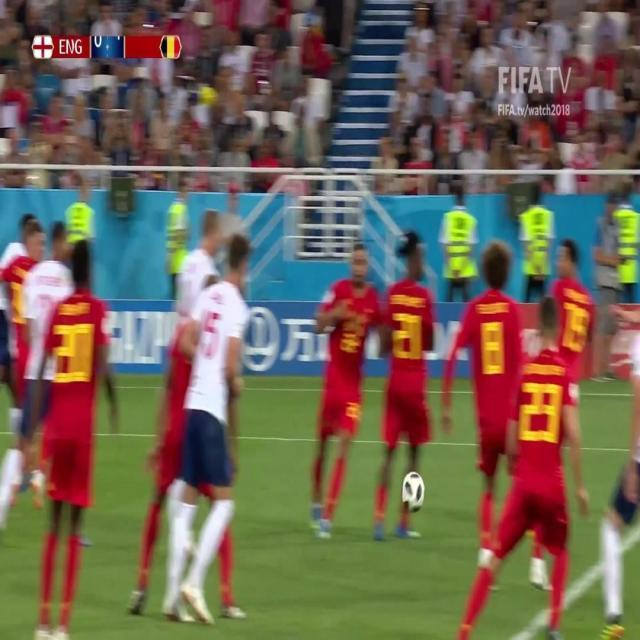ball: (399, 467, 429, 514)
player: (457, 296, 609, 636), (159, 230, 263, 622), (33, 210, 120, 632), (448, 242, 534, 584), (299, 239, 383, 541), (370, 227, 446, 537), (590, 228, 638, 637), (3, 198, 47, 523), (542, 234, 593, 451), (25, 204, 76, 416), (169, 191, 229, 342)
